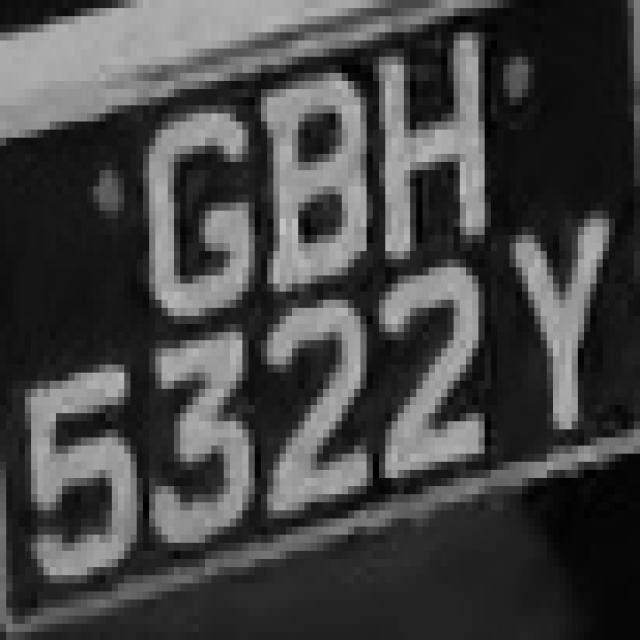2: (360, 251, 491, 494), (255, 292, 379, 510)
3: (124, 308, 280, 551)
5: (6, 364, 143, 600)
B: (236, 57, 367, 308)
G: (124, 89, 267, 332)
H: (360, 24, 497, 260)
Y: (491, 219, 621, 437)
